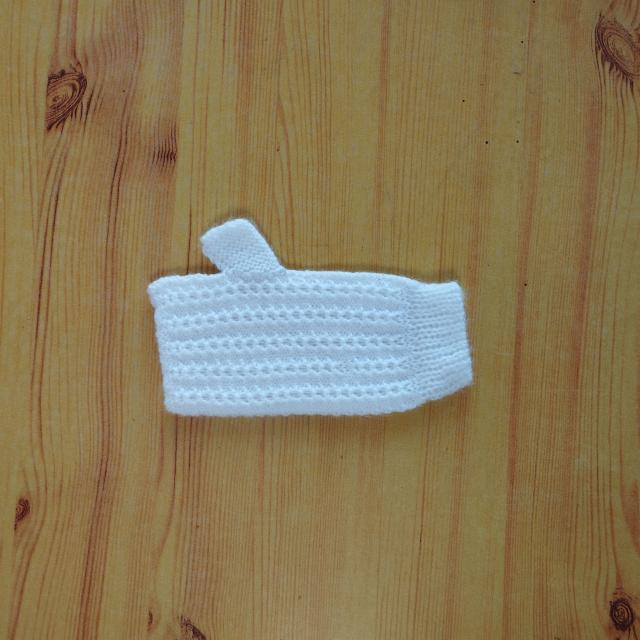Guante: (147, 216, 474, 418)
